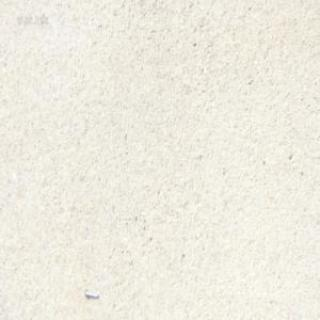Nailtrack_idkeyframe: (82, 287, 98, 298)
